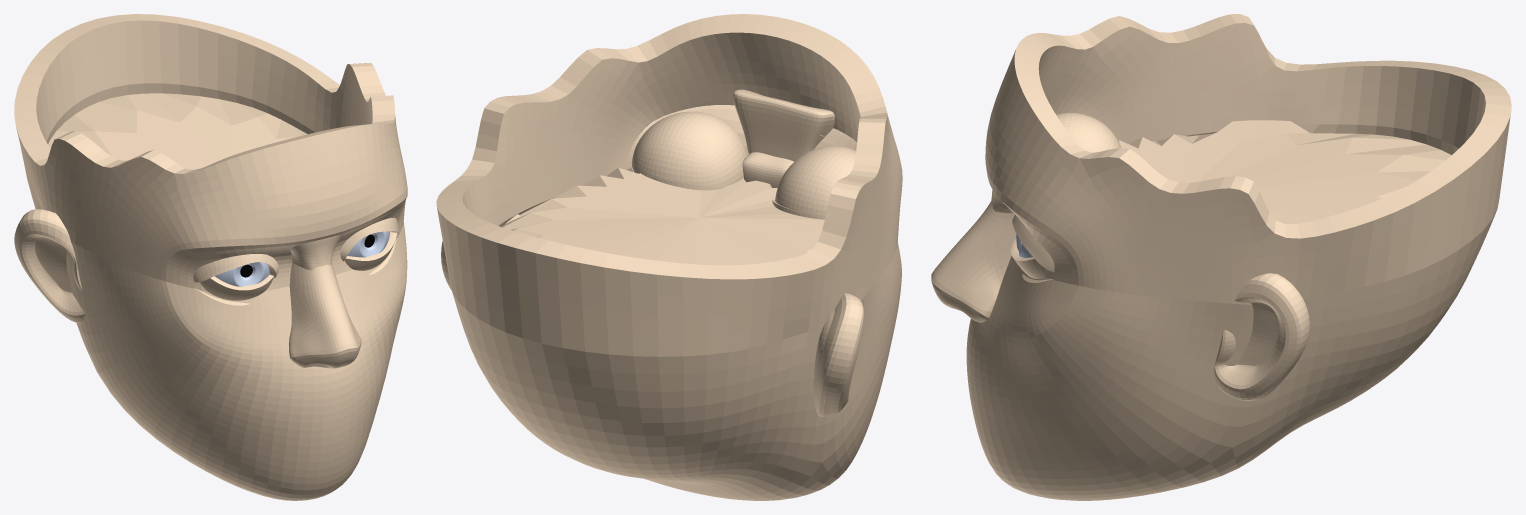
File: UnderOfHead.fbx
3 renders of one model, left to right at view 1: azimuth 30°, elevation 25°; view 2: azimuth 150°, elevation 25°; view 3: azimuth 270°, elevation 25°, orthographic. The views are drawn at different scales.
Parts seen in each view (by area): view 1: 1_GEO-head_male_primitive_realistic; view 2: 1_GEO-head_male_primitive_realistic; view 3: 1_GEO-head_male_primitive_realistic.
Boxes of the visible parts, x1,y1,x2,y2 form: 1_GEO-head_male_primitive_realistic: [14, 14, 407, 500]; 1_GEO-head_male_primitive_realistic: [436, 14, 902, 500]; 1_GEO-head_male_primitive_realistic: [931, 14, 1511, 500].
Bounding box in the file's own units: 0.179 × 0.1797 × 0.2232.
